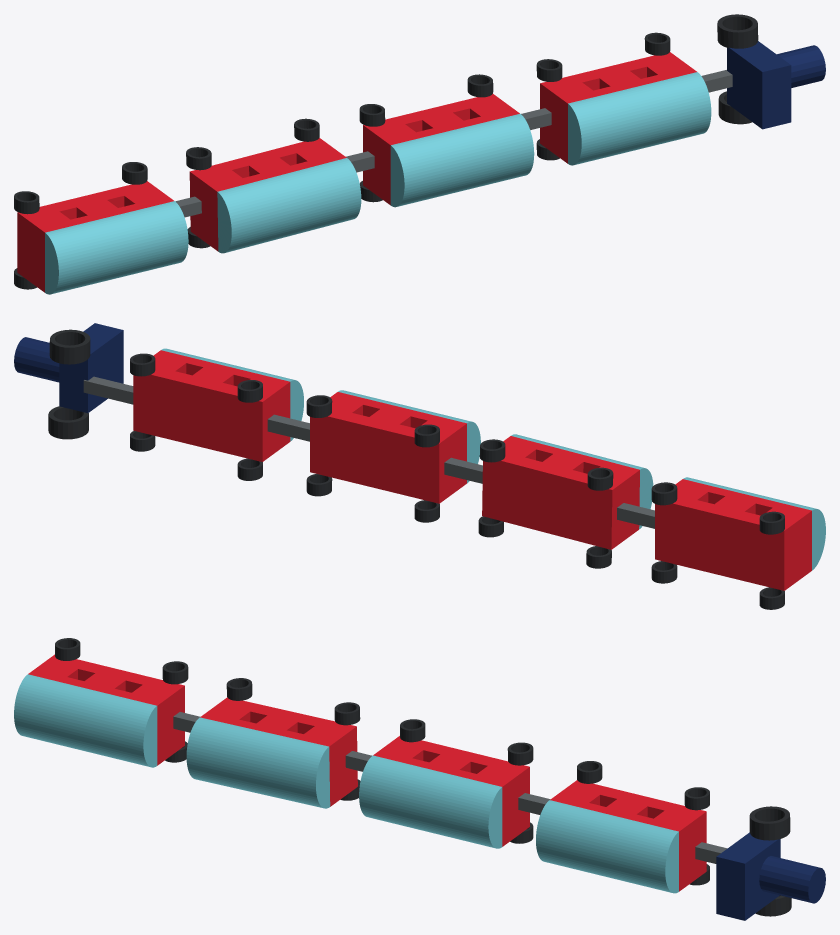
File: tinker.obj
The picture shows the model from 3 angles, top to bottom: view 1: azimuth 30°, elevation 25°; view 2: azimuth 150°, elevation 25°; view 3: azimuth 330°, elevation 25°; orthographic projection.
Parts seen in each view (by area): view 1: group_0_7720667, group_0_15277357, group_0_2829873, group_0_1650274, group_0_6383466; view 2: group_0_15277357, group_0_2829873, group_0_1650274, group_0_7720667, group_0_6383466; view 3: group_0_7720667, group_0_15277357, group_0_2829873, group_0_1650274, group_0_6383466.
Boxes of the visible parts, x1=… form: group_0_7720667: x1=45, y1=72, x2=711, y2=294; group_0_15277357: x1=17, y1=52, x2=696, y2=292; group_0_2829873: x1=14, y1=14, x2=758, y2=289; group_0_1650274: x1=727, y1=41, x2=825, y2=129; group_0_6383466: x1=175, y1=70, x2=732, y2=217; group_0_15277357: x1=133, y1=350, x2=811, y2=590; group_0_2829873: x1=48, y1=329, x2=784, y2=609; group_0_1650274: x1=14, y1=323, x2=123, y2=413; group_0_7720667: x1=161, y1=348, x2=825, y2=570; group_0_6383466: x1=83, y1=376, x2=654, y2=528; group_0_7720667: x1=14, y1=674, x2=678, y2=893; group_0_15277357: x1=28, y1=654, x2=706, y2=891; group_0_2829873: x1=55, y1=638, x2=791, y2=916; group_0_1650274: x1=716, y1=832, x2=825, y2=920; group_0_6383466: x1=173, y1=712, x2=727, y2=863.
Size of the model in its own units: 271 by 31.45 by 30.
